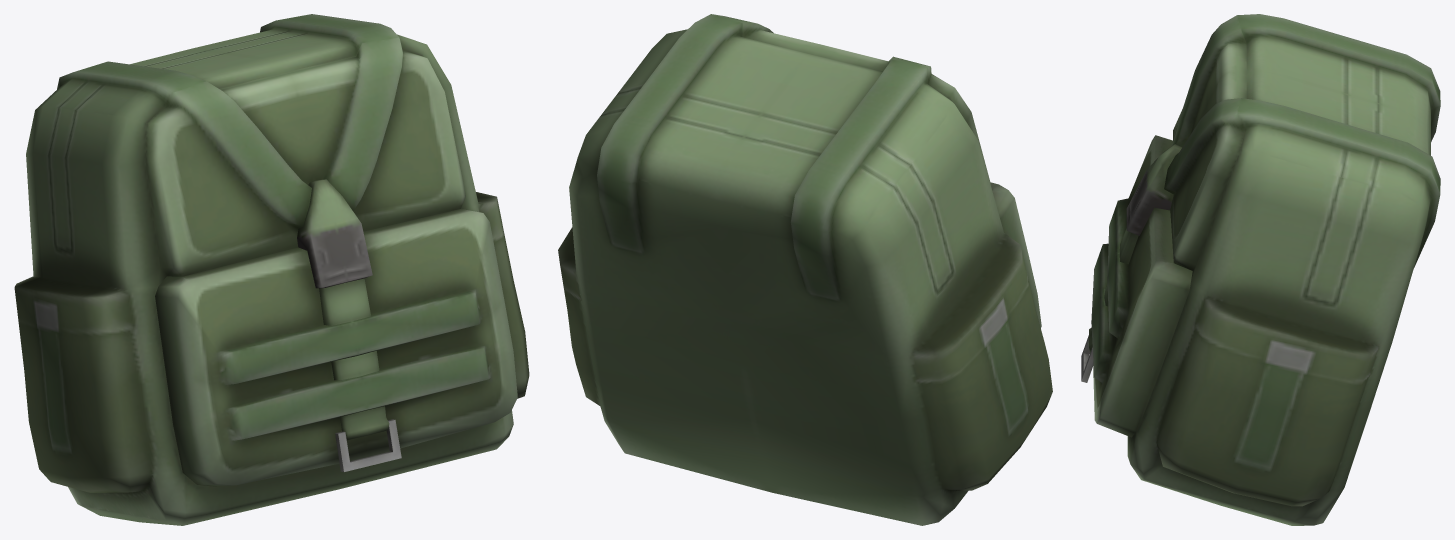
Rendered from IG_Backpack_LV2.fbx.
The picture shows the model from 3 angles, left to right: view 1: azimuth 30°, elevation 25°; view 2: azimuth 150°, elevation 25°; view 3: azimuth 270°, elevation 25°; orthographic projection. The views are drawn at different scales.
Visible parts, largest first — view 1: Backpack_LV2; view 2: Backpack_LV2; view 3: Backpack_LV2.
Boxes of the visible parts, x1,y1,x2,y2 form: Backpack_LV2: (14,14,529,525); Backpack_LV2: (558,14,1052,525); Backpack_LV2: (1081,14,1440,525).
Bounding box in the file's own units: 0.4244 × 0.4055 × 0.3357.
